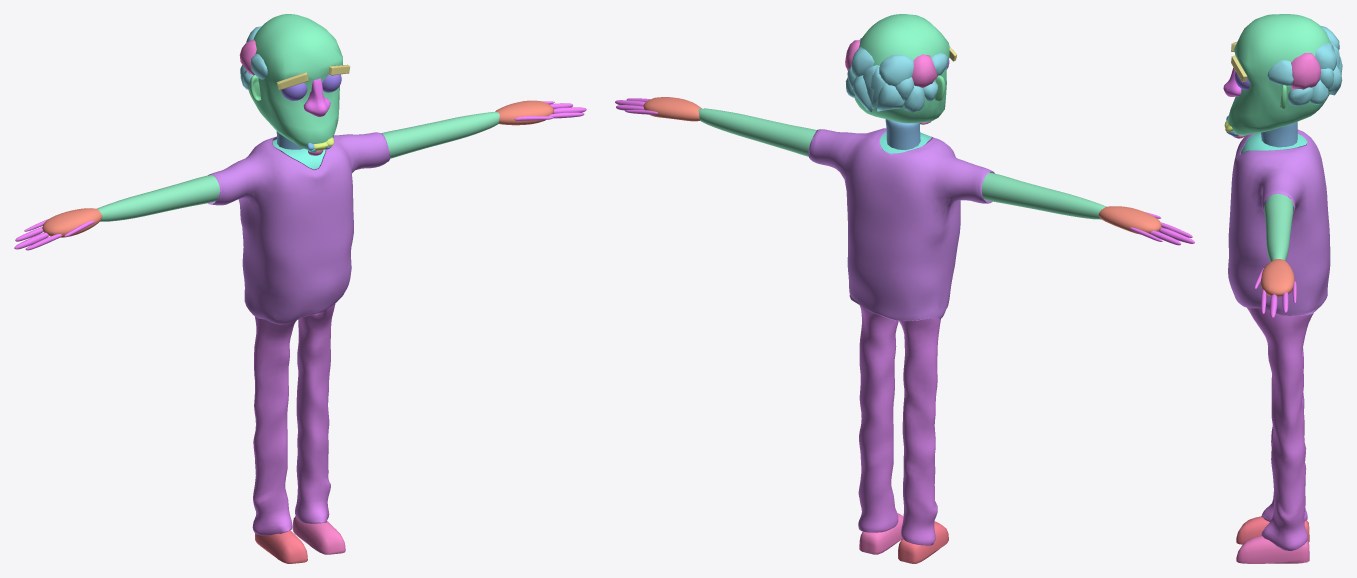
Rendered from Papá LowPoly.fbx.
3 renders of one model, left to right at view 1: azimuth 30°, elevation 25°; view 2: azimuth 150°, elevation 25°; view 3: azimuth 270°, elevation 25°, orthographic.
Parts seen in each view (by area): view 1: CAMISETA, PANTALON, CUERPO, CABEZA, PELOS; view 2: CAMISETA, PANTALON, CUERPO, PELOS, CABEZA; view 3: CAMISETA, PANTALON, CABEZA, CUERPO, PELOS, CEJAS.
Boxes of the visible parts, x1,y1,x2,y2 form: CAMISETA: [208, 132, 390, 324]; PANTALON: [252, 303, 335, 535]; CUERPO: [14, 100, 586, 563]; CABEZA: [248, 14, 342, 149]; PELOS: [239, 26, 334, 155]; CAMISETA: [808, 128, 994, 321]; PANTALON: [858, 305, 940, 545]; CUERPO: [615, 97, 1194, 563]; PELOS: [845, 38, 947, 124]; CABEZA: [854, 14, 949, 123]; CAMISETA: [1228, 129, 1330, 315]; PANTALON: [1247, 307, 1313, 550]; CABEZA: [1223, 14, 1331, 135]; CUERPO: [1236, 122, 1309, 563]; PELOS: [1224, 26, 1342, 138]; CEJAS: [1231, 42, 1247, 82].
Size of the model in its own units: 9.1 by 7.92 by 1.61.
